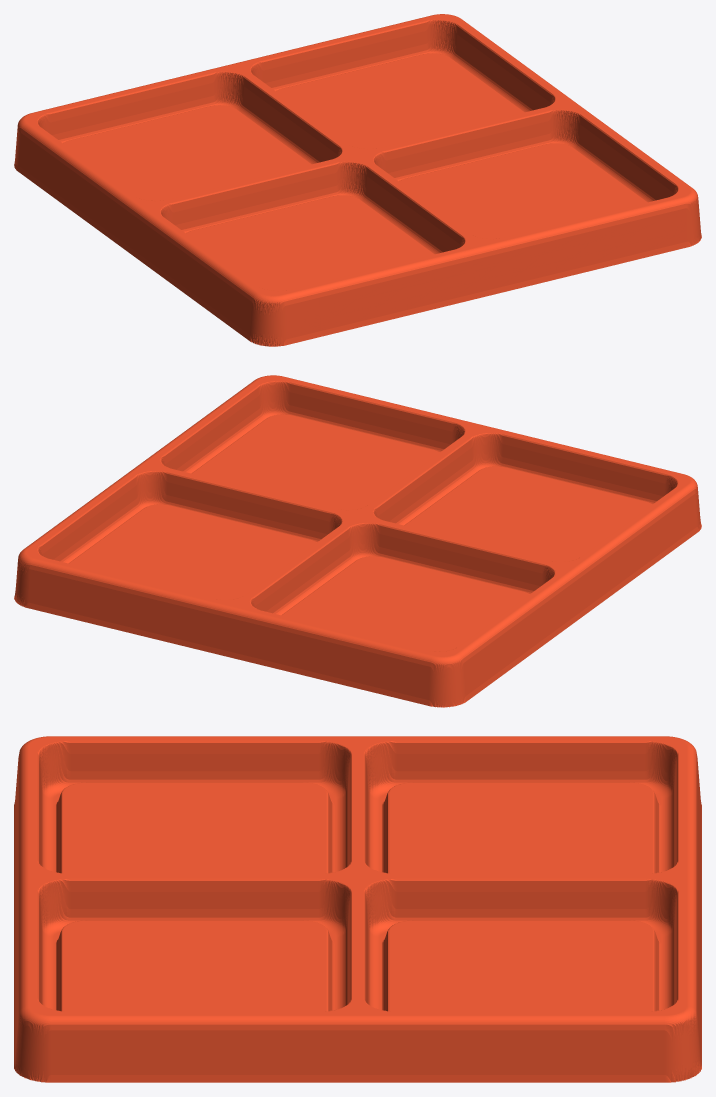
File: mold.glb
3 views of the same model, one above another, from view 1: azimuth 30°, elevation 25°; view 2: azimuth 150°, elevation 25°; view 3: azimuth 270°, elevation 25° (orthographic). The views are drawn at different scales.
Visible parts, largest first — view 1: geometry_0; view 2: geometry_0; view 3: geometry_0.
Boxes of the visible parts, x1=… form: geometry_0: x1=14, y1=14, x2=701, y2=346; geometry_0: x1=14, y1=375, x2=701, y2=707; geometry_0: x1=14, y1=736, x2=701, y2=1082.
Bounding box in the file's own units: 0.1688 × 0.0165 × 0.1688.
